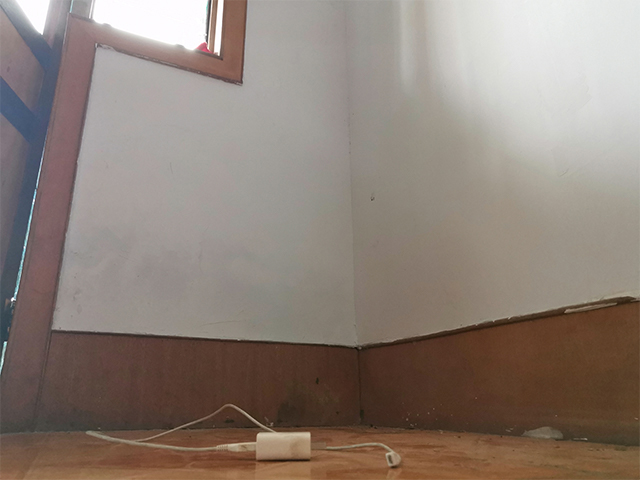wire: (83, 401, 404, 471)
